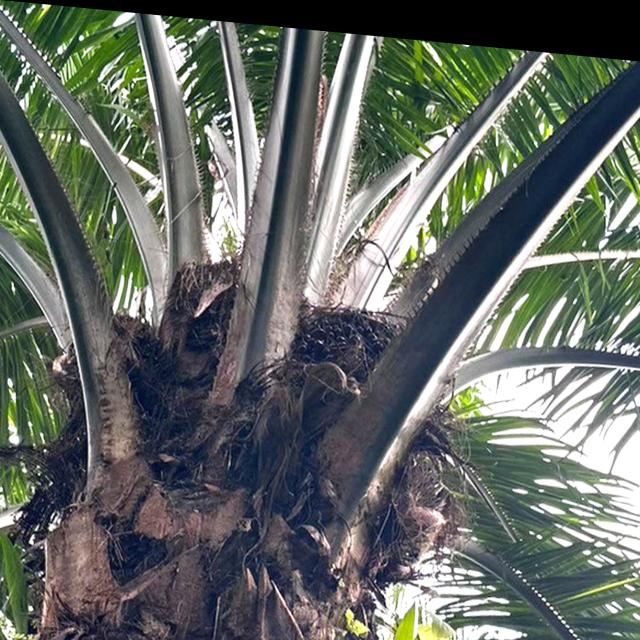ripe: (282, 266, 412, 390)
